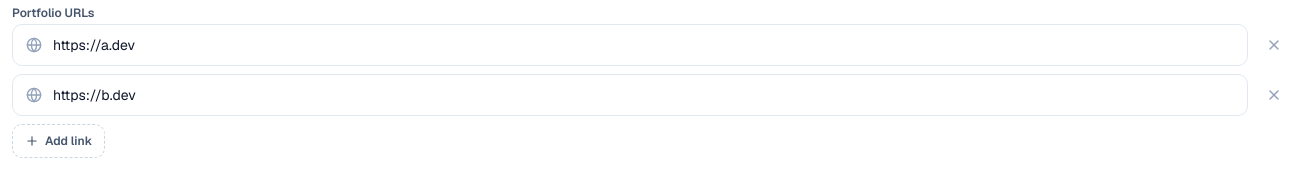
Test: PortfolioLinksEditor › removes the row that was clicked
Click the button named "remove portfolio url 1".
click(1274, 45)  # box x1=1256 y1=27 x2=1292 y2=63
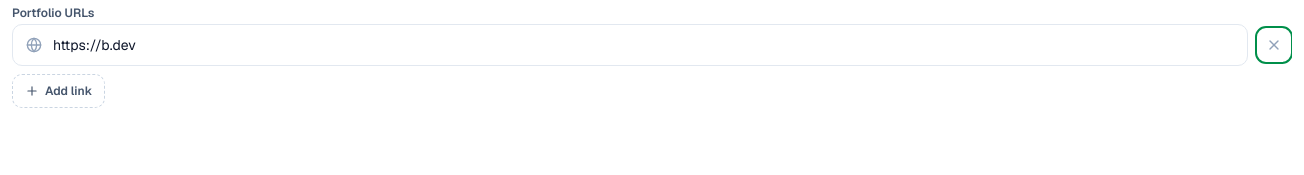
Expected: the field named "Portfolio URL 1" holds "https://b.dev", x1=12 y1=24 x2=1248 y2=66
